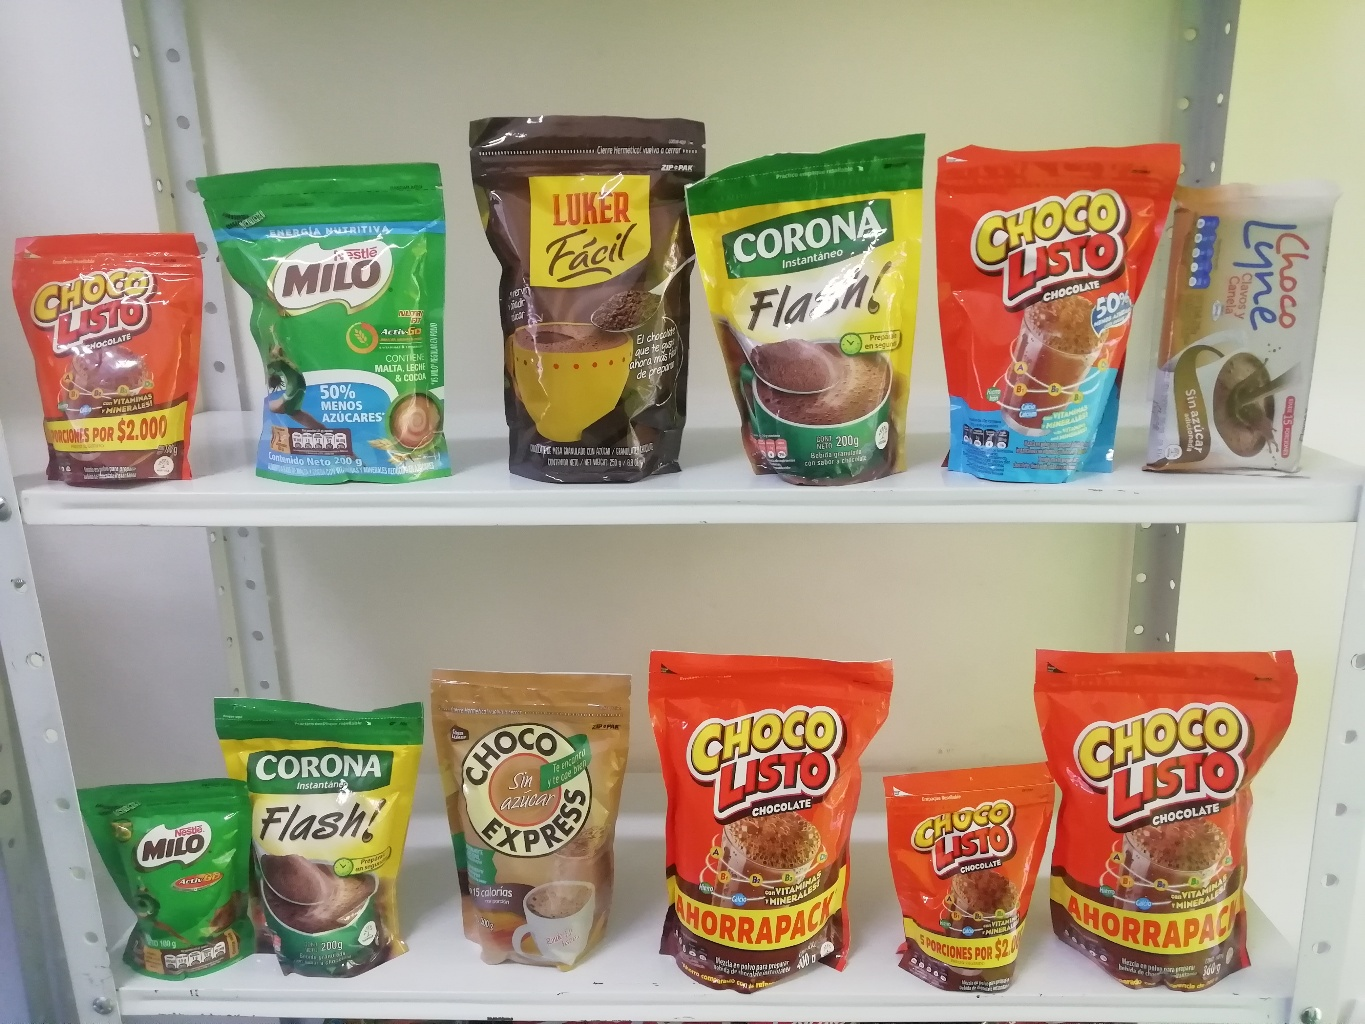COL0170103DYP10000: (13, 234, 203, 485)
COL0170103DYP36000: (1033, 643, 1298, 989)
COL0170103DYP40000: (649, 644, 895, 996)
COL0170104DYP20000: (934, 136, 1182, 484)
COL0170203DYP10000: (77, 785, 268, 983)
COL0170205DYP20000: (194, 160, 449, 485)
